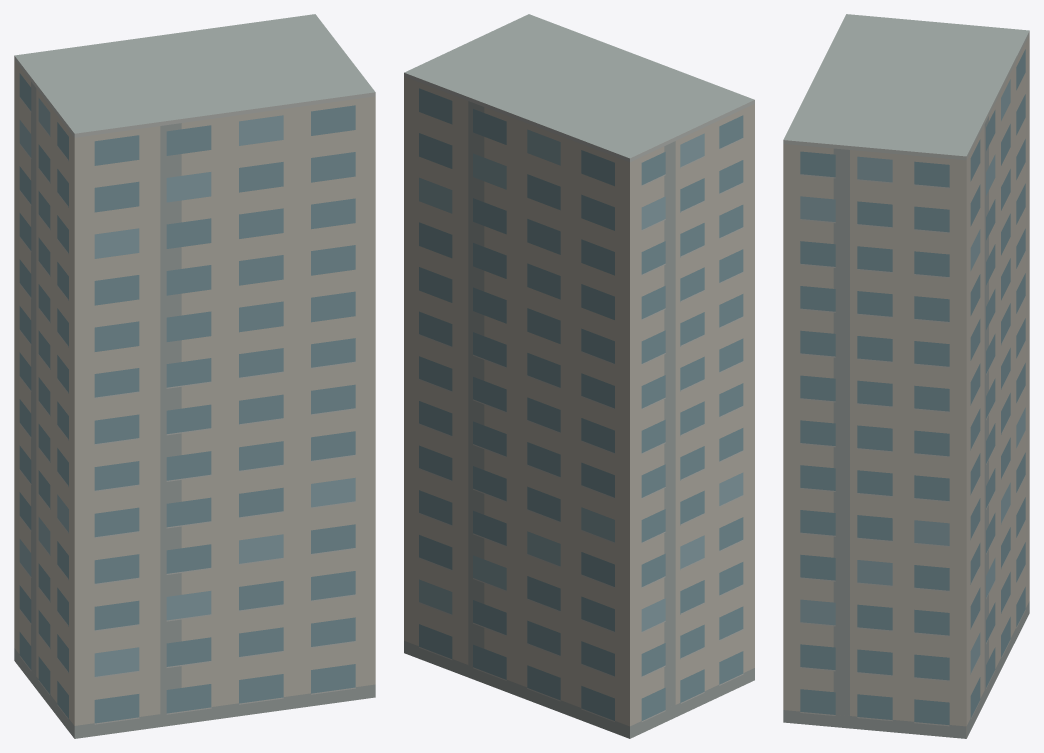
Rendered from residential-4ee7c040-1522-483e-a137-6d1330890799.glb.
3 renders of one model, left to right at view 1: azimuth 30°, elevation 25°; view 2: azimuth 150°, elevation 25°; view 3: azimuth 270°, elevation 25°, orthographic. The views are drawn at different scales.
Parts seen in each view (by area): view 1: residential-4ee7c040-1522-483e-a137-6d1330890799.tmp; view 2: residential-4ee7c040-1522-483e-a137-6d1330890799.tmp; view 3: residential-4ee7c040-1522-483e-a137-6d1330890799.tmp.
Part boxes in pixels (x1,y1,x2,y2): residential-4ee7c040-1522-483e-a137-6d1330890799.tmp: (14, 14, 375, 738); residential-4ee7c040-1522-483e-a137-6d1330890799.tmp: (404, 14, 754, 738); residential-4ee7c040-1522-483e-a137-6d1330890799.tmp: (783, 14, 1029, 738).
Size of the model in its own units: 18.89 by 36 by 13.82.
